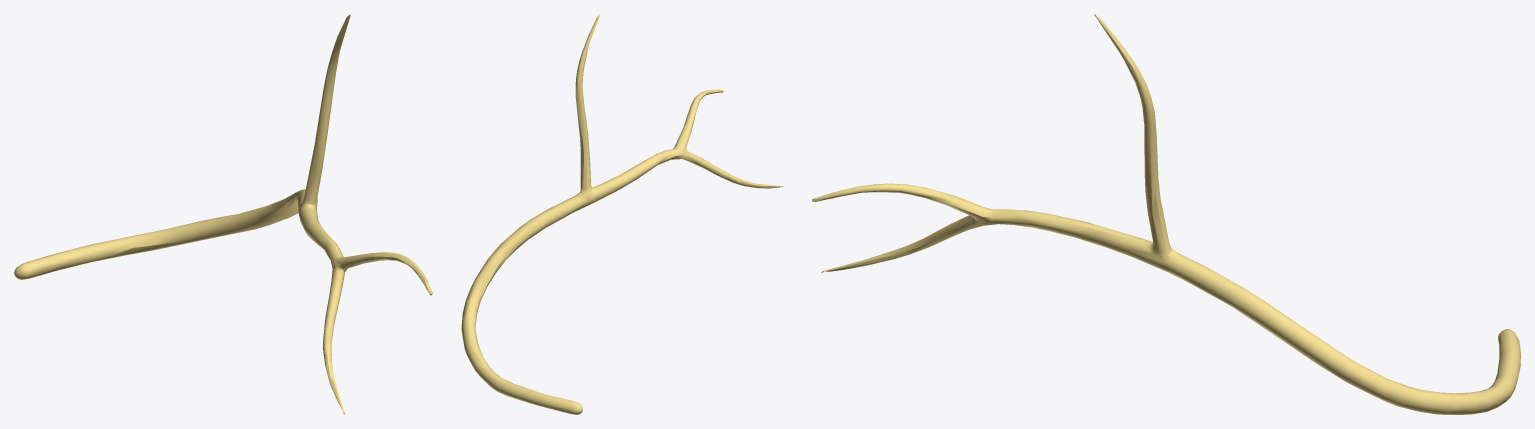
Rendered from fma65396_fj4173.glb.
3 views of the same model, side by side, from view 1: azimuth 30°, elevation 25°; view 2: azimuth 150°, elevation 25°; view 3: azimuth 270°, elevation 25° (orthographic). The views are drawn at different scales.
Parts seen in each view (by area): view 1: FMA65396_FJ4173; view 2: FMA65396_FJ4173; view 3: FMA65396_FJ4173.
Part boxes in pixels (bbox=[...]): FMA65396_FJ4173: bbox=[14, 14, 432, 414]; FMA65396_FJ4173: bbox=[461, 14, 783, 414]; FMA65396_FJ4173: bbox=[812, 14, 1520, 414].
Size of the model in its own units: 0.0197 by 0.0321 by 0.0496.
